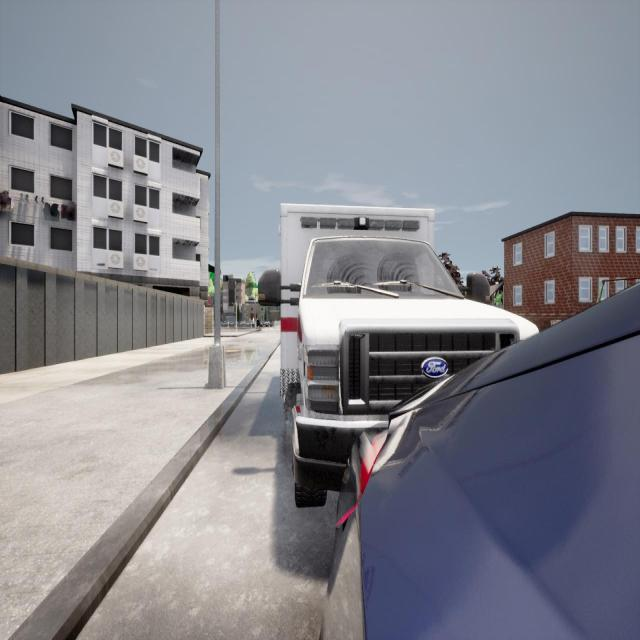Vehicle: (320, 284, 640, 640), (257, 203, 541, 507)
